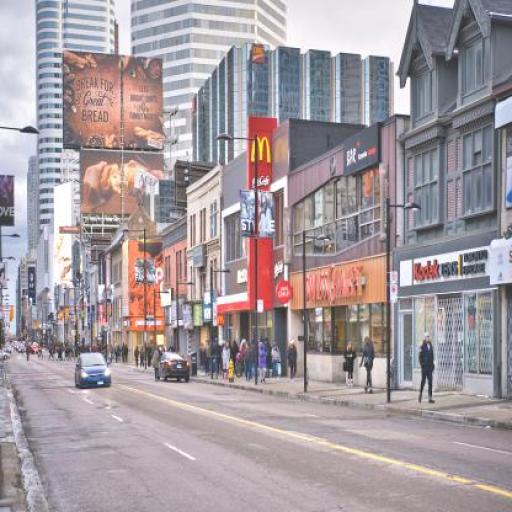street light: (215, 132, 260, 385), (386, 198, 420, 404), (302, 230, 332, 393), (122, 228, 147, 368), (210, 267, 232, 380), (90, 261, 109, 360), (176, 281, 195, 371), (1, 124, 41, 164), (154, 289, 169, 361), (0, 232, 20, 244), (0, 254, 15, 264)
